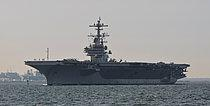MIL_Ship: (24, 19, 191, 87)
